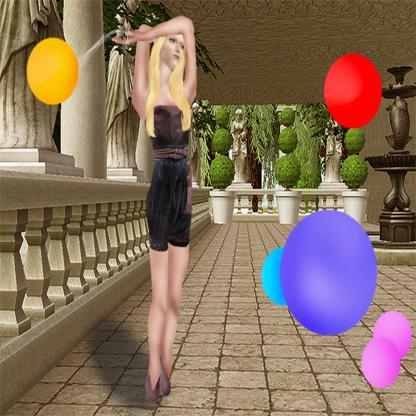Ball: (280, 209, 376, 336), (324, 58, 380, 126), (25, 38, 78, 104), (362, 337, 400, 386), (375, 311, 412, 357), (262, 245, 282, 302)
